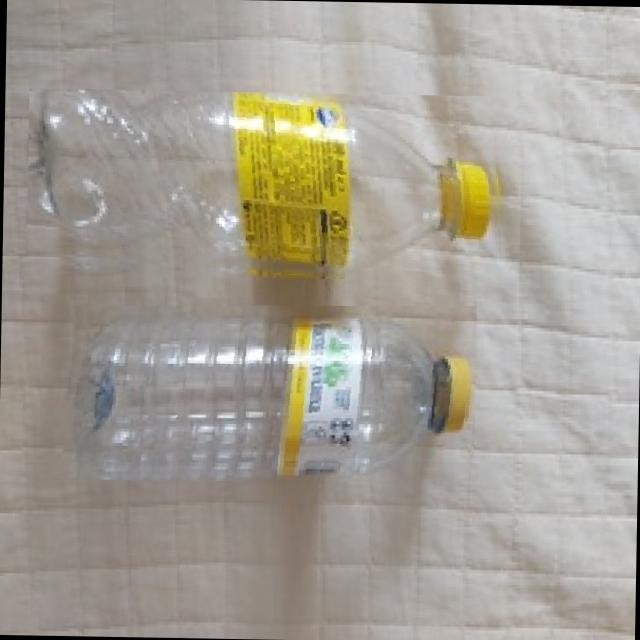plastic bottle: (25, 87, 507, 290), (58, 298, 476, 484)
